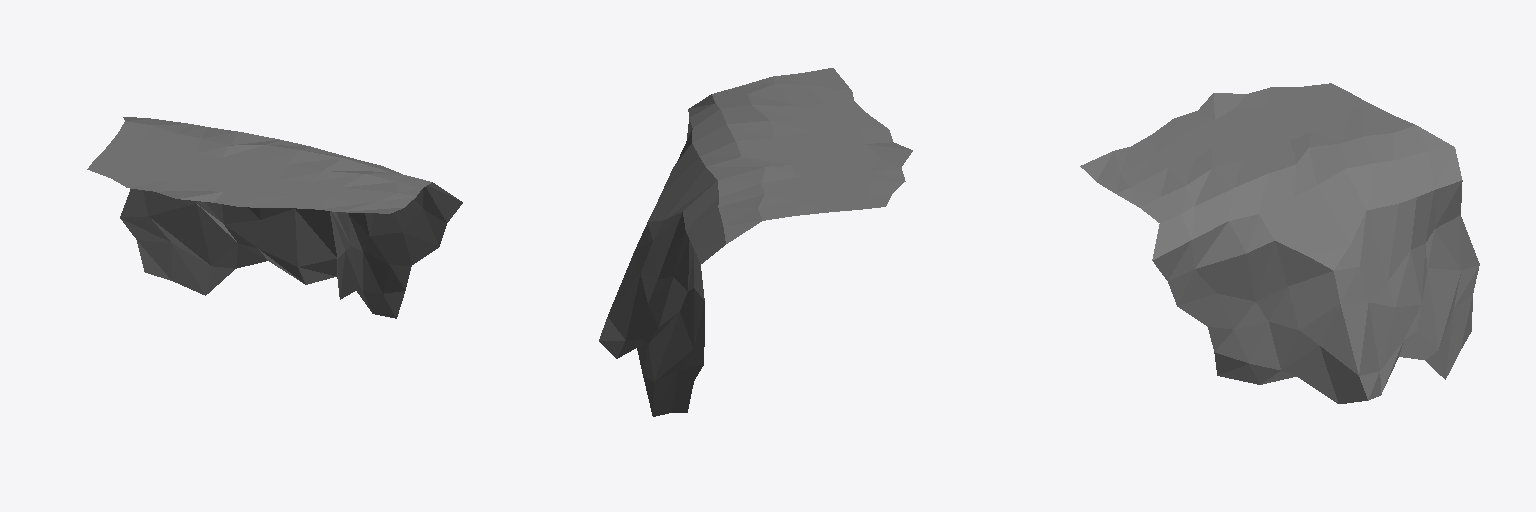
File: MSH_env_grass-hanging-a.obj
The picture shows the model from 3 angles: view 1: azimuth 30°, elevation 25°; view 2: azimuth 150°, elevation 25°; view 3: azimuth 270°, elevation 25°; orthographic projection.
Visible parts, largest first — view 1: MSH_env_grass_hanging_a group4; view 2: MSH_env_grass_hanging_a group4; view 3: MSH_env_grass_hanging_a group4.
Part boxes in pixels (x1,y1,x2,y2): MSH_env_grass_hanging_a group4: (87, 117, 462, 318); MSH_env_grass_hanging_a group4: (599, 68, 912, 416); MSH_env_grass_hanging_a group4: (1080, 83, 1479, 403).
Bounding box in the file's own units: 40.98 × 29.63 × 49.46.